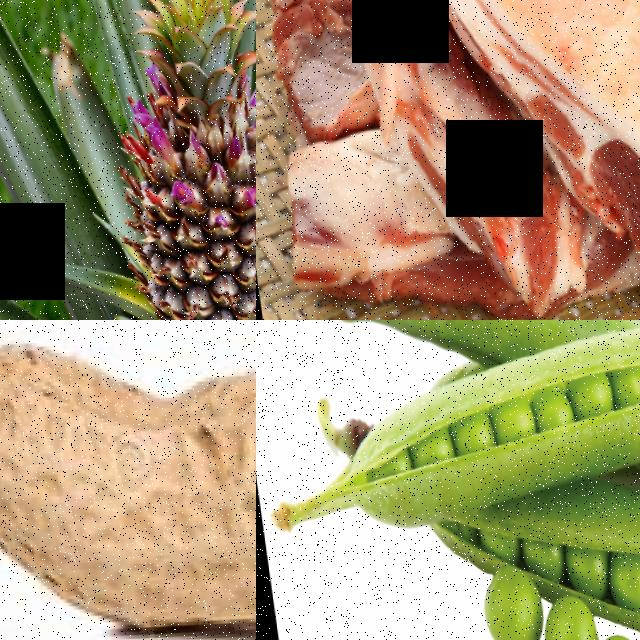peanuts: (0, 320, 256, 640)
peas: (449, 529, 640, 640), (458, 343, 640, 449)
pineapple: (102, 24, 256, 320)
pork belly: (387, 0, 640, 320), (256, 0, 439, 303)
